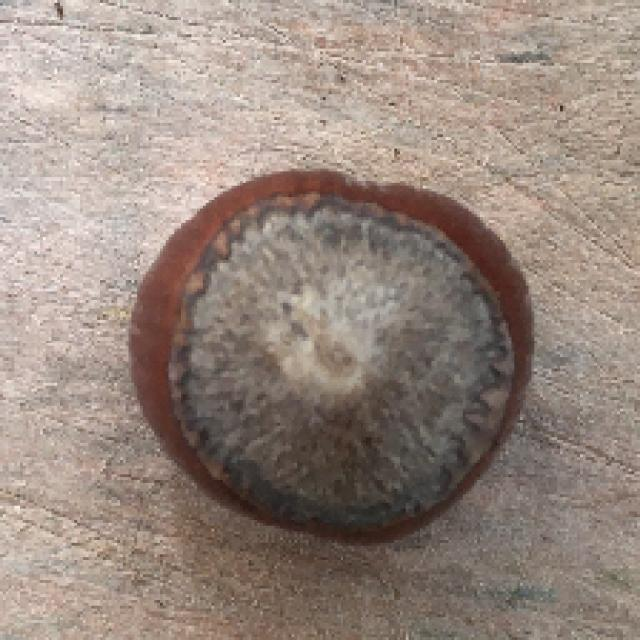damagedHazelnut: (120, 138, 570, 569)
